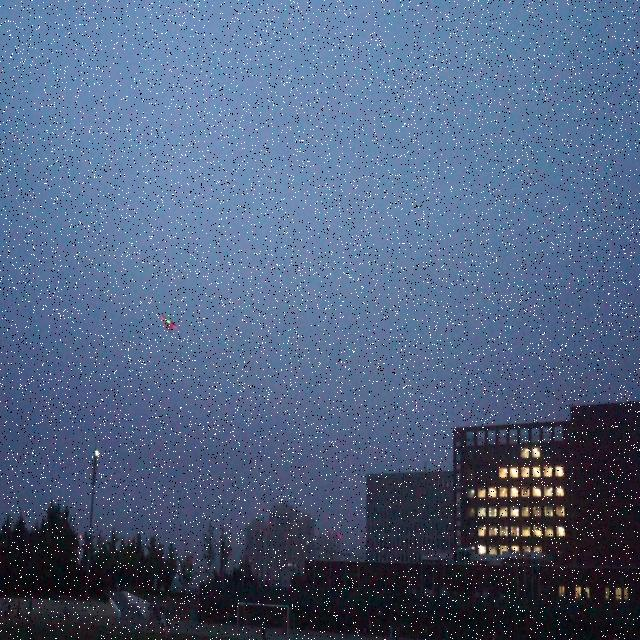UAV: (161, 314, 178, 334)
